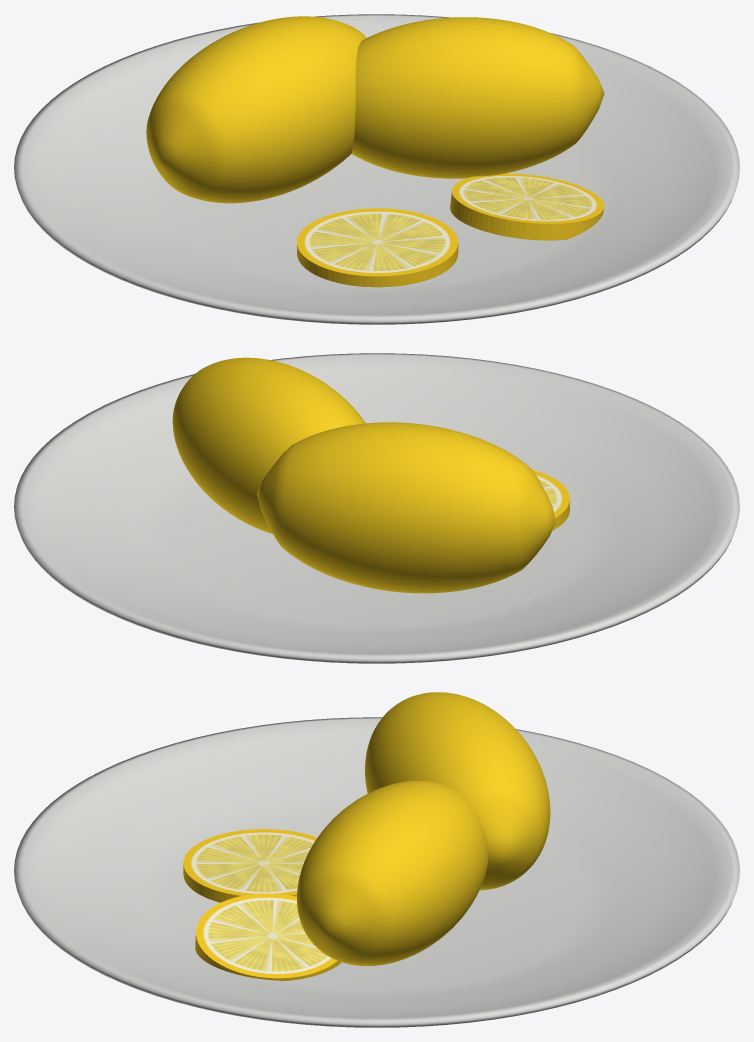
The model's file is limon.glb.
The picture shows the model from 3 angles, top to bottom: view 1: azimuth 30°, elevation 25°; view 2: azimuth 150°, elevation 25°; view 3: azimuth 270°, elevation 25°; orthographic projection.
Visible parts, largest first — view 1: plate, lemon.001, lemon, slice, slice.001; view 2: plate, lemon, lemon.001, slice; view 3: plate, lemon.001, lemon, slice.001, slice.
Part boxes in pixels (x1,y1,x2,y2): plate: (14, 14, 739, 324); lemon.001: (351, 17, 604, 178); lemon: (146, 16, 366, 203); slice: (297, 208, 458, 287); slice.001: (450, 173, 604, 240); plate: (14, 353, 739, 663); lemon: (257, 422, 555, 593); lemon.001: (172, 357, 365, 533); slice: (532, 470, 569, 530); plate: (14, 717, 739, 1027); lemon.001: (297, 780, 488, 965); lemon: (365, 692, 550, 890); slice.001: (195, 893, 341, 980); slice: (183, 829, 317, 902).
Bounding box in the file's own units: 0.9 × 0.235 × 0.9.
3 materials, 1 textured.
